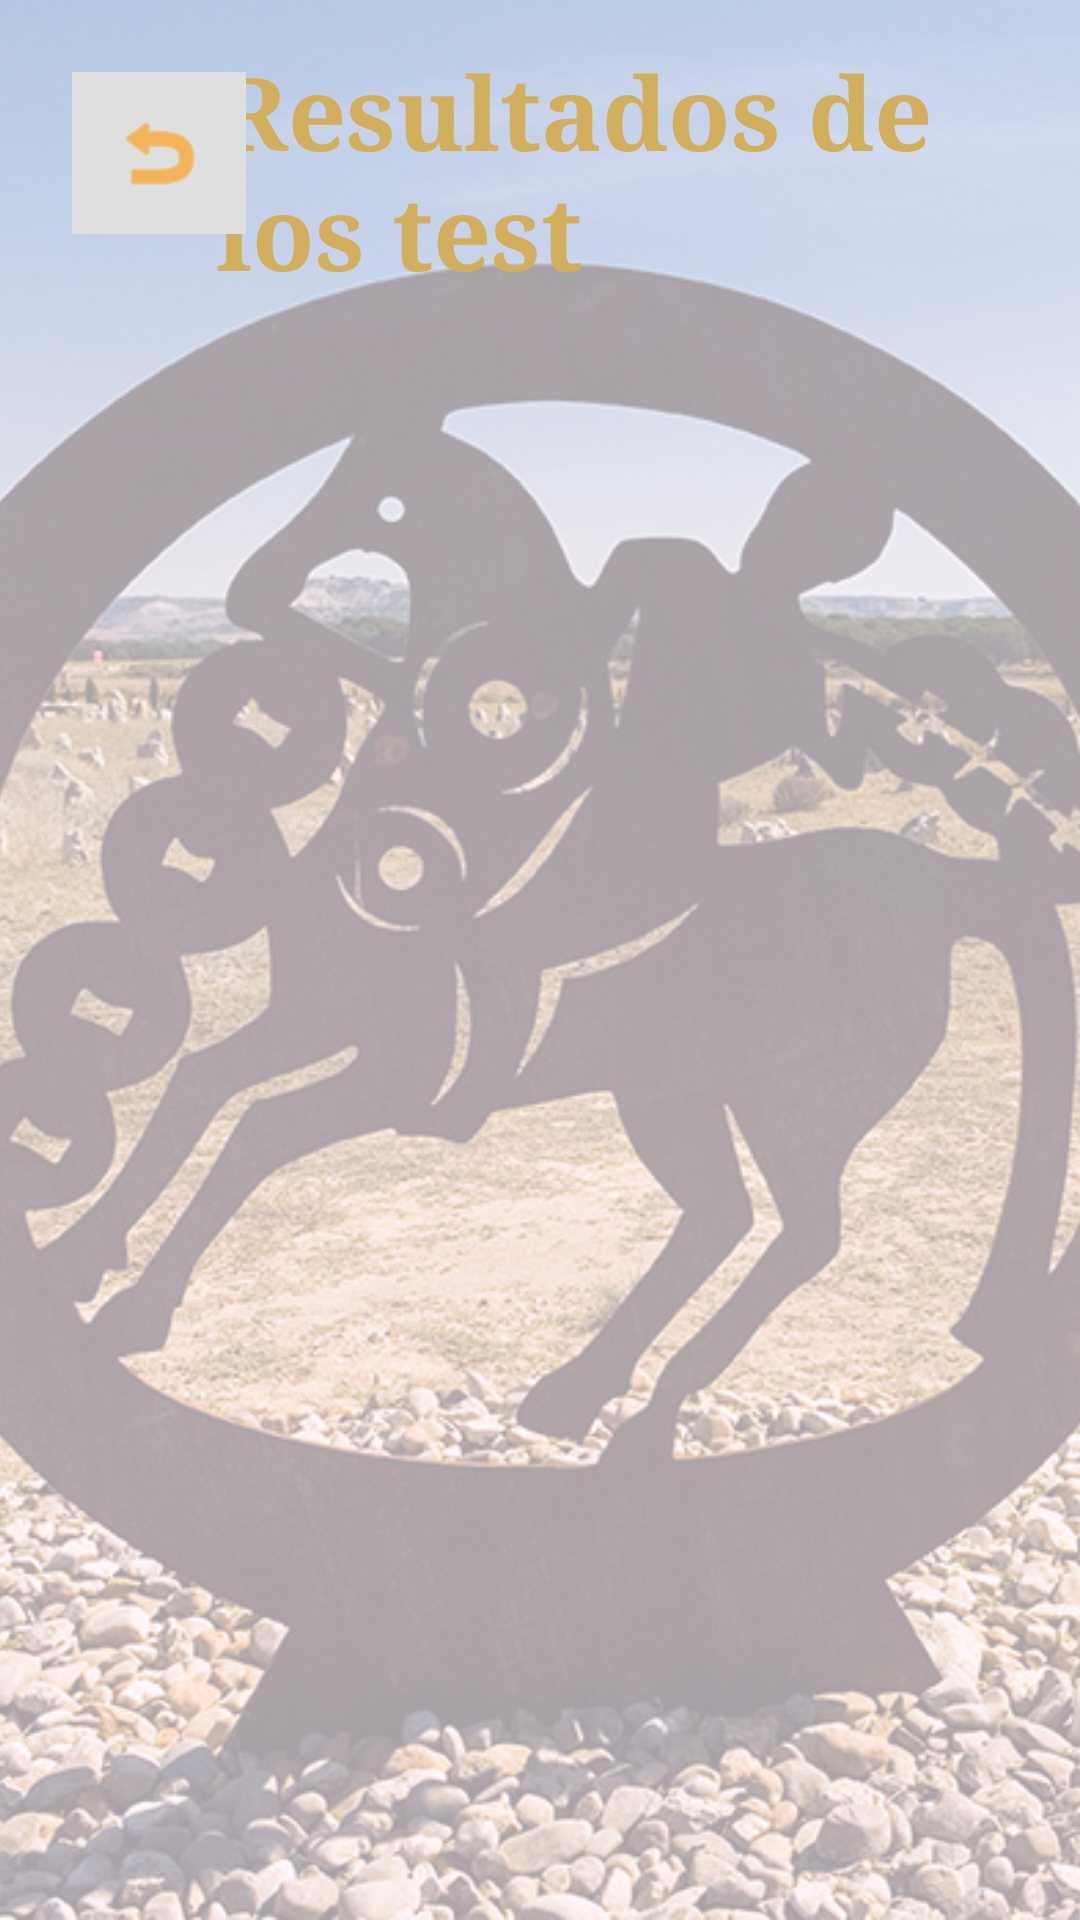

Where icons sit on this 1080px x 1920px app screen, as (x1, y1, x2, y2):
revert: (72, 72, 246, 234)
